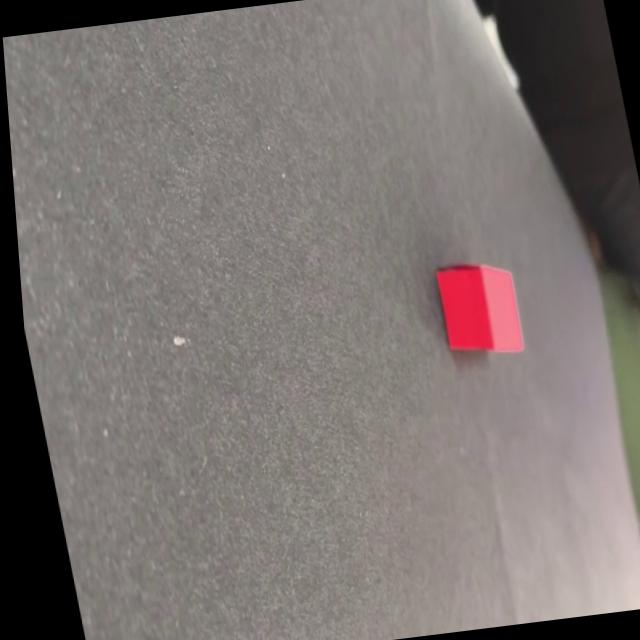red block: (431, 256, 528, 361)
